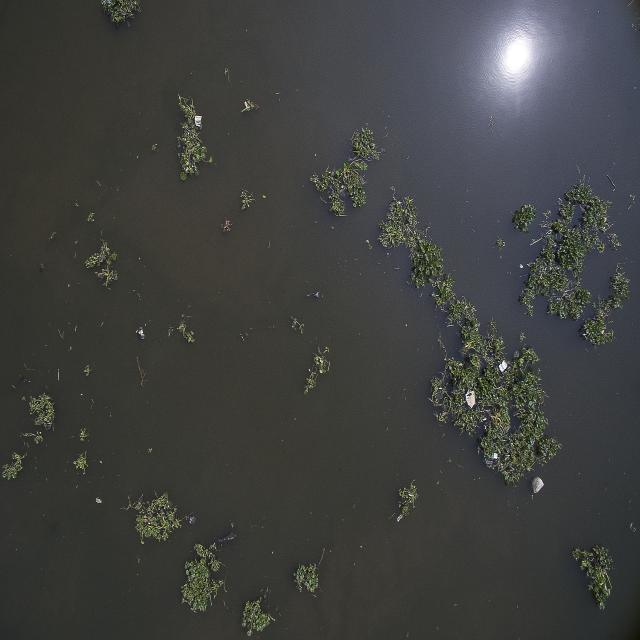plastic: (526, 470, 551, 500), (462, 384, 484, 415), (192, 106, 208, 140), (494, 358, 516, 378)
